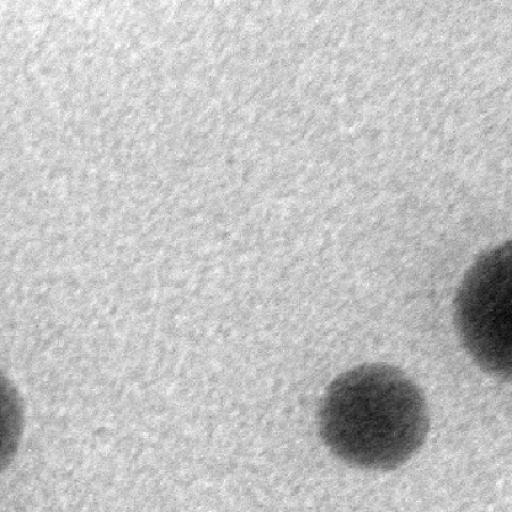Nanoparticles: (321, 361, 429, 471), (452, 236, 512, 374), (0, 374, 27, 472)
